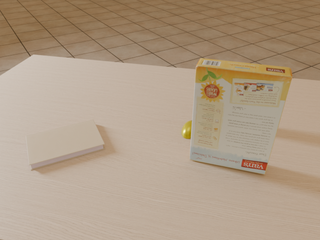book: (26, 120, 105, 170)
box: (190, 58, 292, 174)
mouse: (182, 120, 192, 139)
